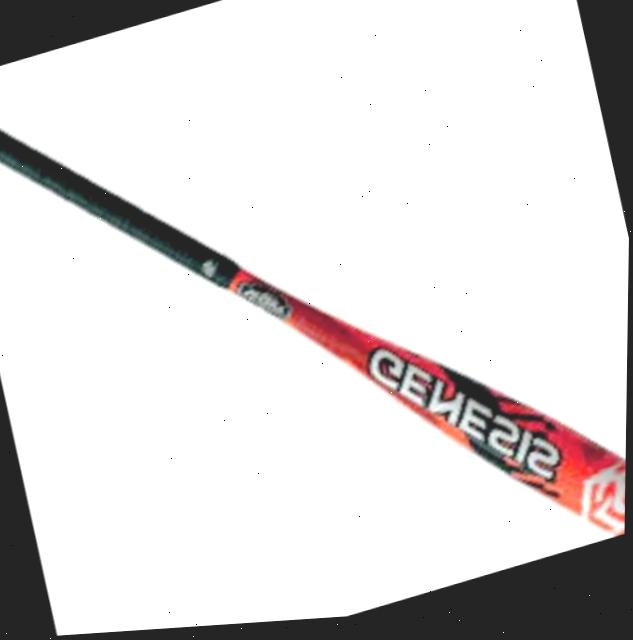baseball bat: (0, 121, 627, 544)
